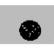correct: (13, 18, 44, 48)
